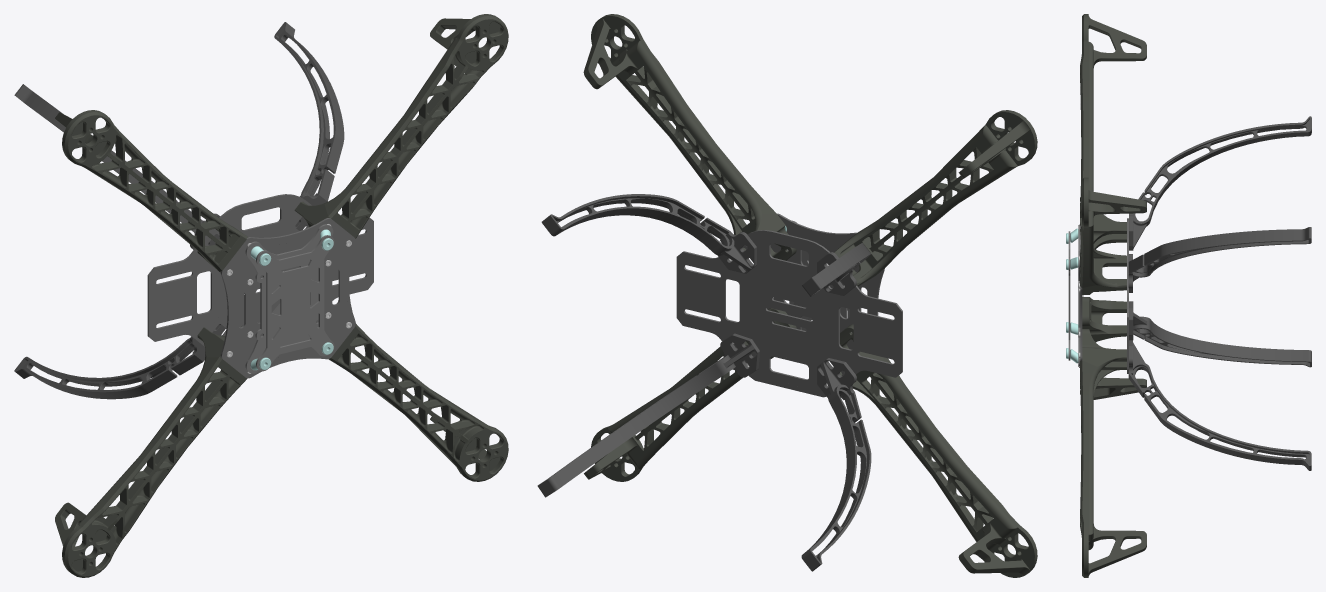
3 views of the same model, side by side, from view 1: azimuth 30°, elevation 25°; view 2: azimuth 150°, elevation 25°; view 3: azimuth 270°, elevation 25° (orthographic). The views are drawn at different scales.
Visible parts, largest first — view 1: Body1.001; view 2: Body1.001; view 3: Body1.001.
Boxes of the visible parts, x1,y1,x2,y2 form: Body1.001: (14,14,508,577); Body1.001: (537,14,1037,577); Body1.001: (1066,14,1311,577).
Bounding box in the file's own units: 38.38 × 38.38 × 21.59.
